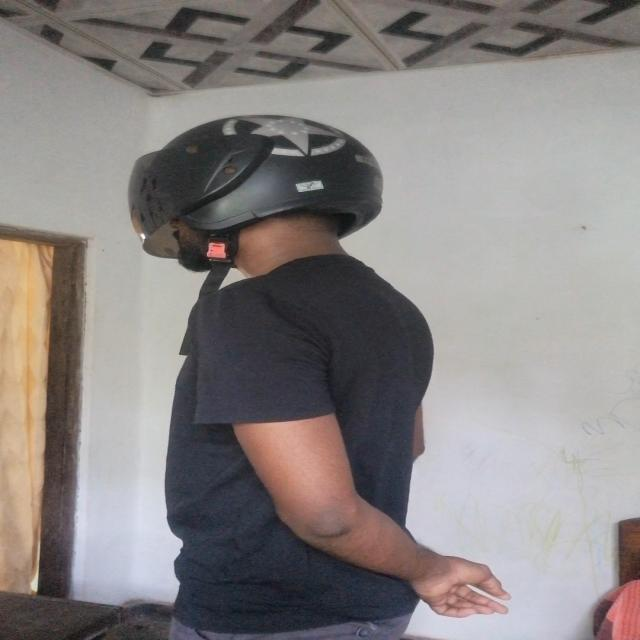Helmet_Wearer: (102, 109, 420, 297)
Person: (126, 112, 518, 628)
